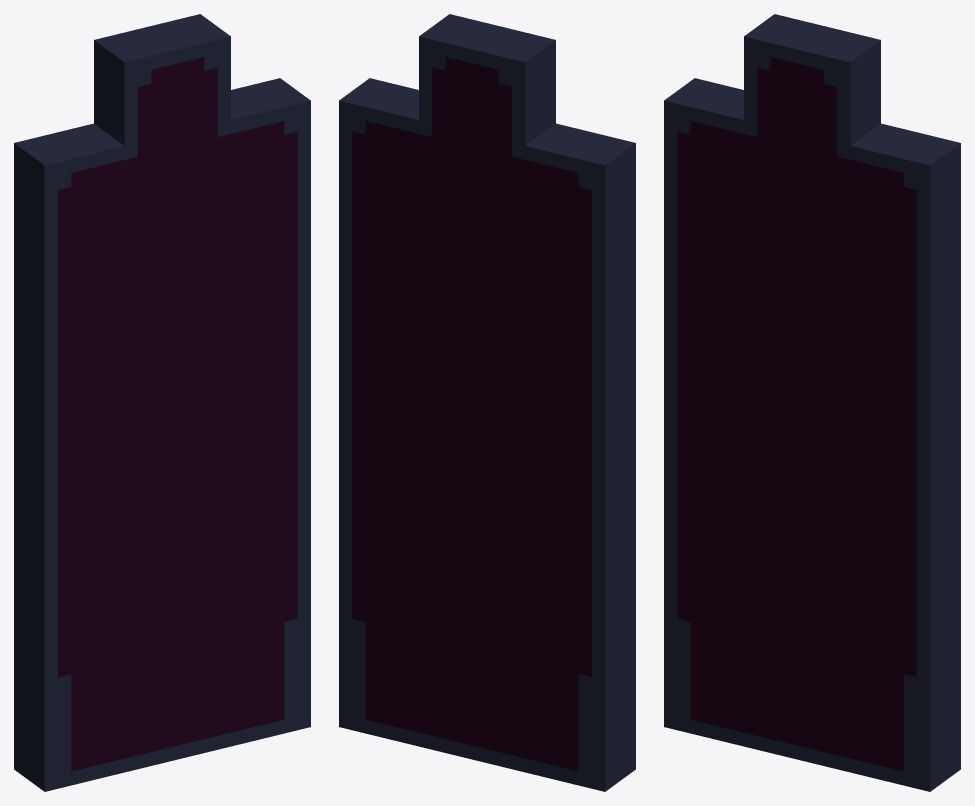
File: Portal_2.glb
The picture shows the model from 3 angles, left to right: view 1: azimuth 30°, elevation 25°; view 2: azimuth 150°, elevation 25°; view 3: azimuth 330°, elevation 25°; orthographic projection.
Parts seen in each view (by area): view 1: Portal_2; view 2: Portal_2; view 3: Portal_2.
Boxes of the visible parts, x1,y1,x2,y2 form: Portal_2: (14,14,310,791); Portal_2: (339,14,635,791); Portal_2: (664,14,960,791).
Size of the model in its own units: 0.5 by 1.28 by 0.1.
